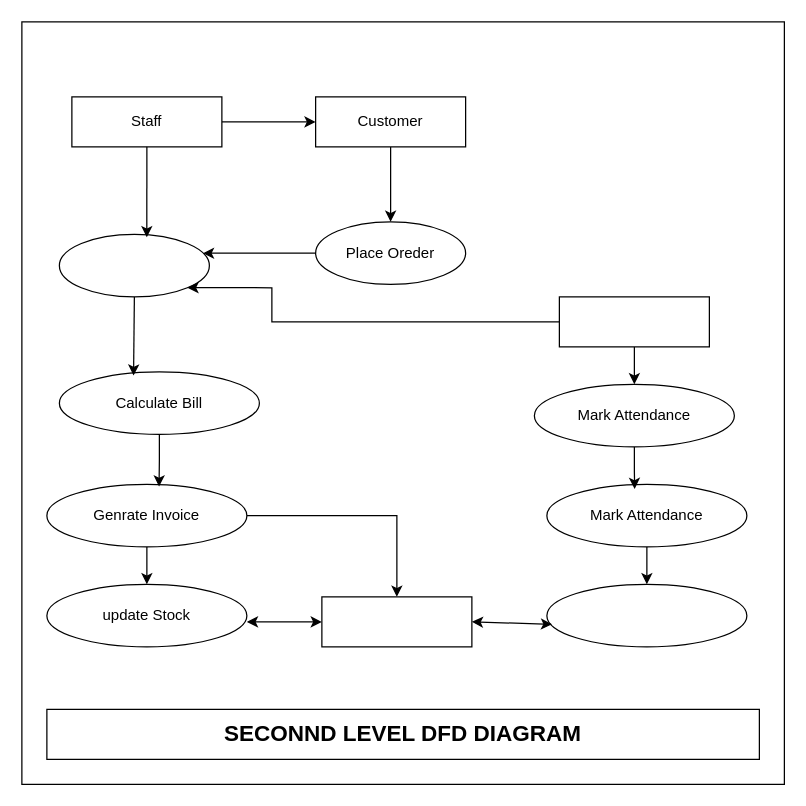
This 806x806 diagram has some shape labels left out. The shapes that lost their labels are listed below. From the top down, each one's centre as x and y in pixels, then its label:
At (x=133, y=265): "Select Item".
At (x=633, y=321): "Admin".
At (x=396, y=621): "Database".
At (x=646, y=615): "Veiw Report".
